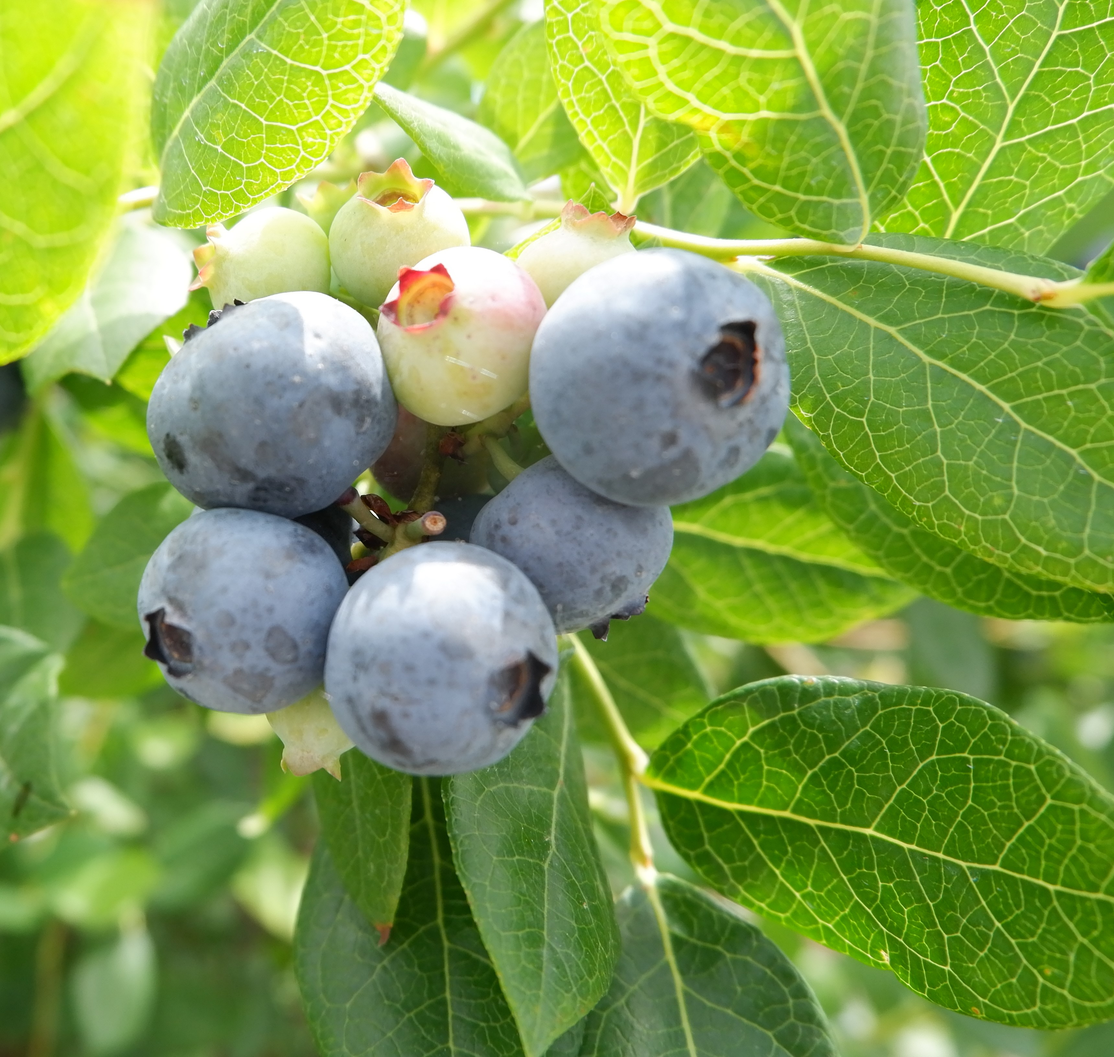Immature: (381, 250, 538, 423), (330, 181, 464, 304), (197, 206, 329, 305), (370, 400, 488, 507), (520, 204, 630, 301), (272, 686, 349, 778)
Mature: (532, 255, 784, 504), (152, 294, 396, 509), (329, 545, 555, 774), (138, 513, 338, 711), (478, 462, 673, 630), (424, 495, 495, 541)
